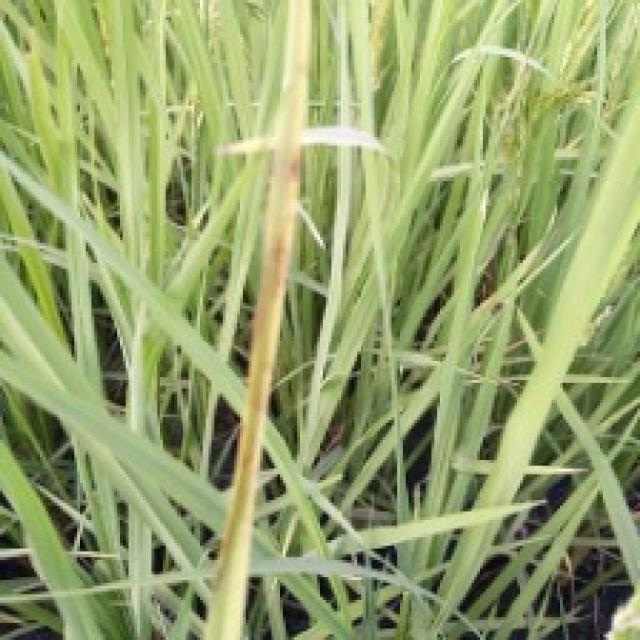Rice___Brown_Spot: (203, 0, 312, 637)
